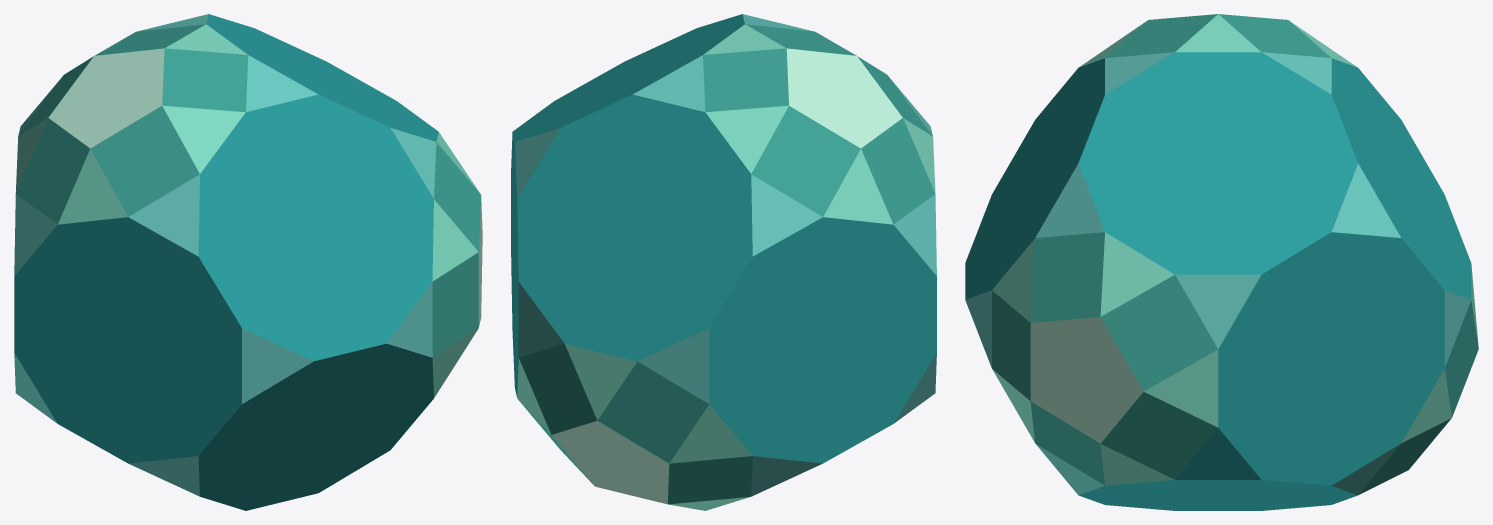
File: J71.DodecaedroTruncadoTriaumentado.gltf
3 renders of one model, left to right at view 1: azimuth 30°, elevation 25°; view 2: azimuth 150°, elevation 25°; view 3: azimuth 270°, elevation 25°, orthographic. The views are drawn at different scales.
Visible parts, largest first — view 1: J71.DodecaedroTruncadoTriaumentado; view 2: J71.DodecaedroTruncadoTriaumentado; view 3: J71.DodecaedroTruncadoTriaumentado.
Boxes of the visible parts, bbox=[...] form: J71.DodecaedroTruncadoTriaumentado: bbox=[14, 14, 482, 510]; J71.DodecaedroTruncadoTriaumentado: bbox=[511, 14, 936, 510]; J71.DodecaedroTruncadoTriaumentado: bbox=[965, 14, 1478, 510].
Bounding box in the file's own units: 18.96 × 18.96 × 18.96.
